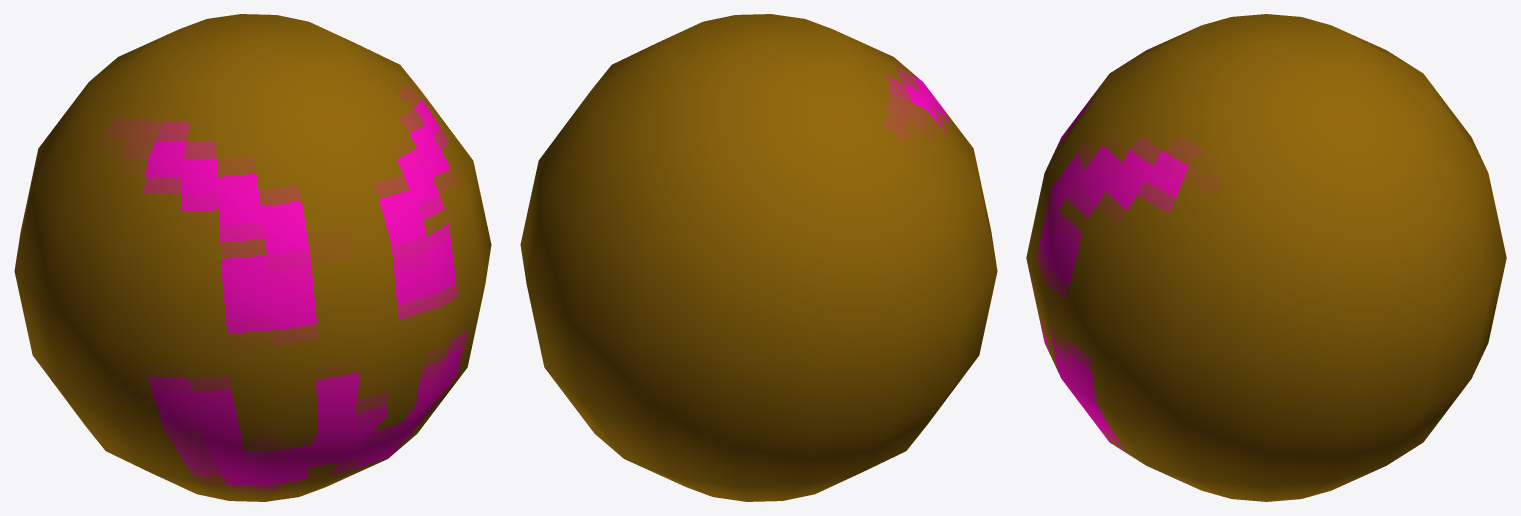
File: placeholder_sphere.obj
3 renders of one model, left to right at view 1: azimuth 30°, elevation 25°; view 2: azimuth 150°, elevation 25°; view 3: azimuth 270°, elevation 25°, orthographic.
Parts seen in each view (by area): view 1: placeholder_sphere_placeholder_sphere_mesh; view 2: placeholder_sphere_placeholder_sphere_mesh; view 3: placeholder_sphere_placeholder_sphere_mesh.
Boxes of the visible parts, left/top/right/bottom form: placeholder_sphere_placeholder_sphere_mesh: left=14, top=14, right=491, bottom=501; placeholder_sphere_placeholder_sphere_mesh: left=520, top=14, right=997, bottom=501; placeholder_sphere_placeholder_sphere_mesh: left=1026, top=14, right=1506, bottom=501.
Bounding box in the file's own units: 1.92 × 1.92 × 1.92.
1 material, 1 textured.
